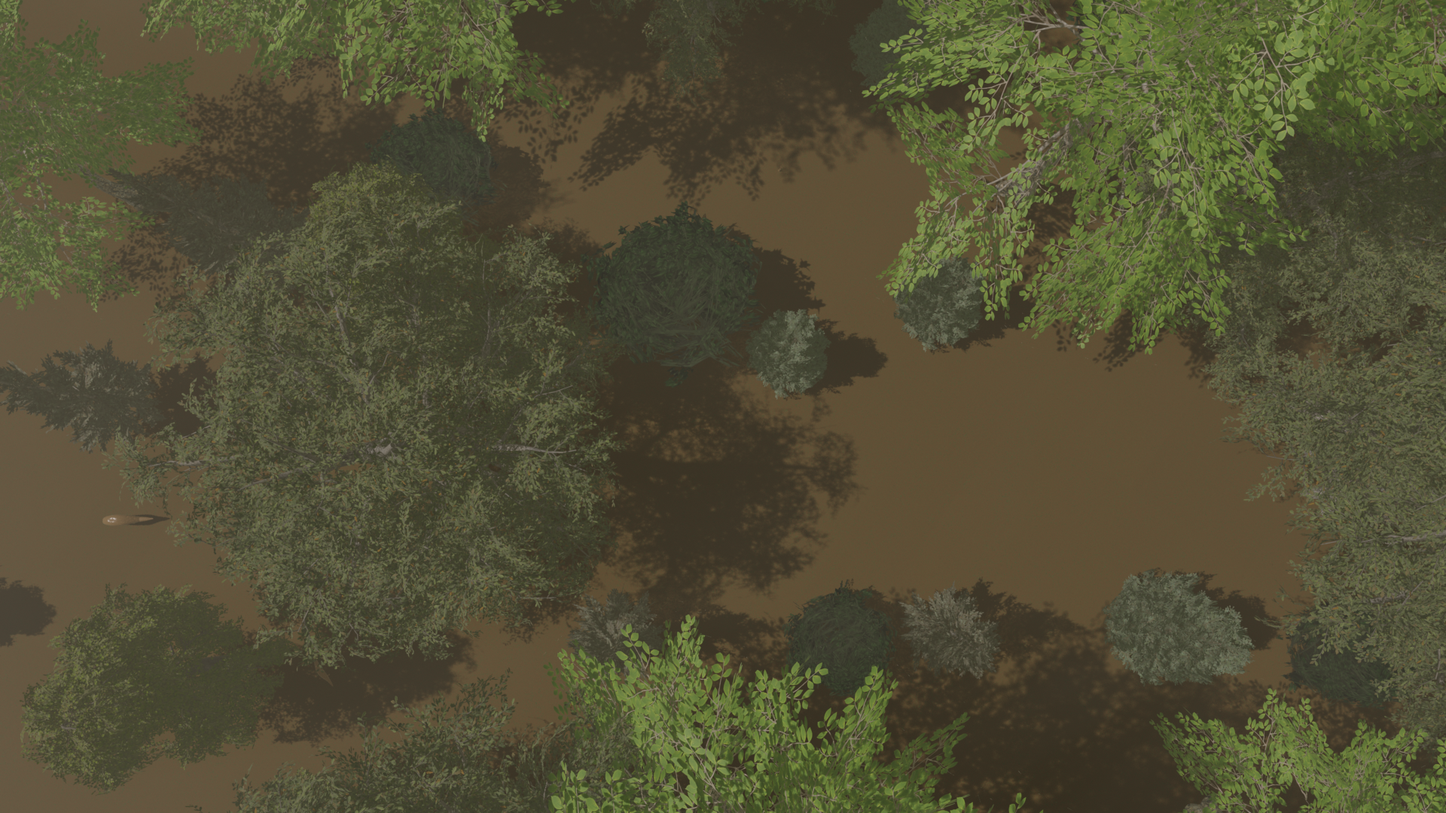pangolin: (725, 160, 792, 212), (1269, 57, 1302, 124), (301, 645, 340, 692), (92, 513, 172, 527)
